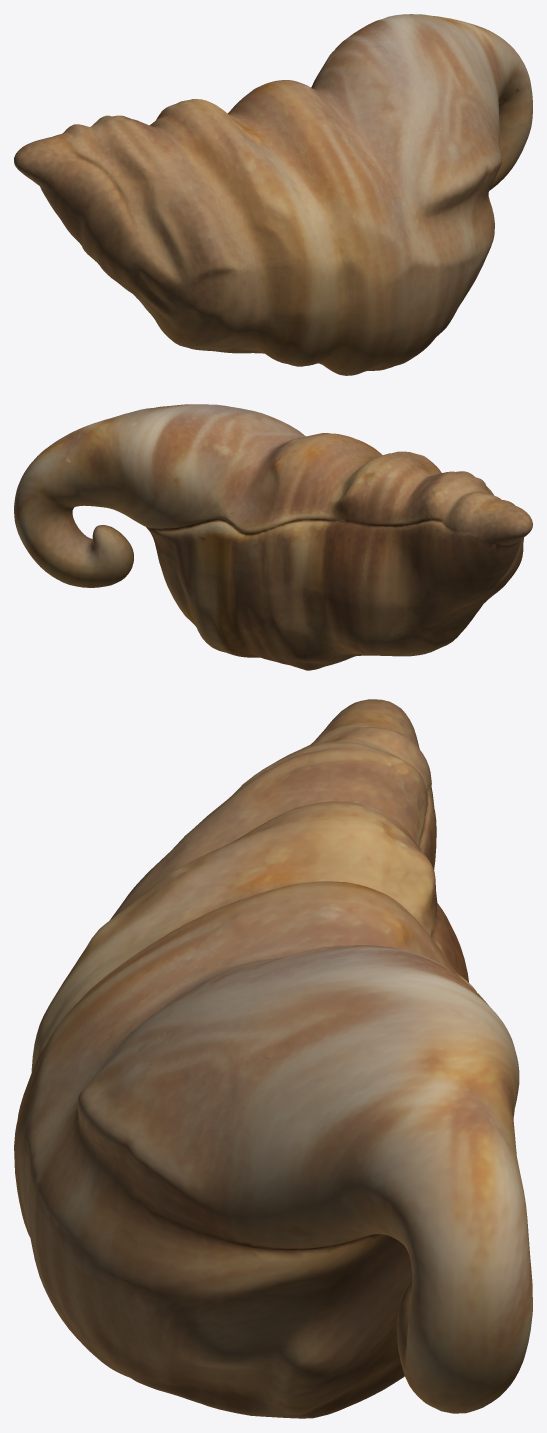
The picture shows the model from 3 angles, top to bottom: view 1: azimuth 30°, elevation 25°; view 2: azimuth 150°, elevation 25°; view 3: azimuth 270°, elevation 25°; orthographic projection. The views are drawn at different scales.
Visible parts, largest first — view 1: world; view 2: world; view 3: world.
Part boxes in pixels (x1,y1,x2,y2): world: (14, 14, 532, 375); world: (14, 404, 532, 670); world: (14, 699, 532, 1418).
Bounding box in the file's own units: 0.06 × 0.0299 × 0.0285.
1 material, 1 textured.
